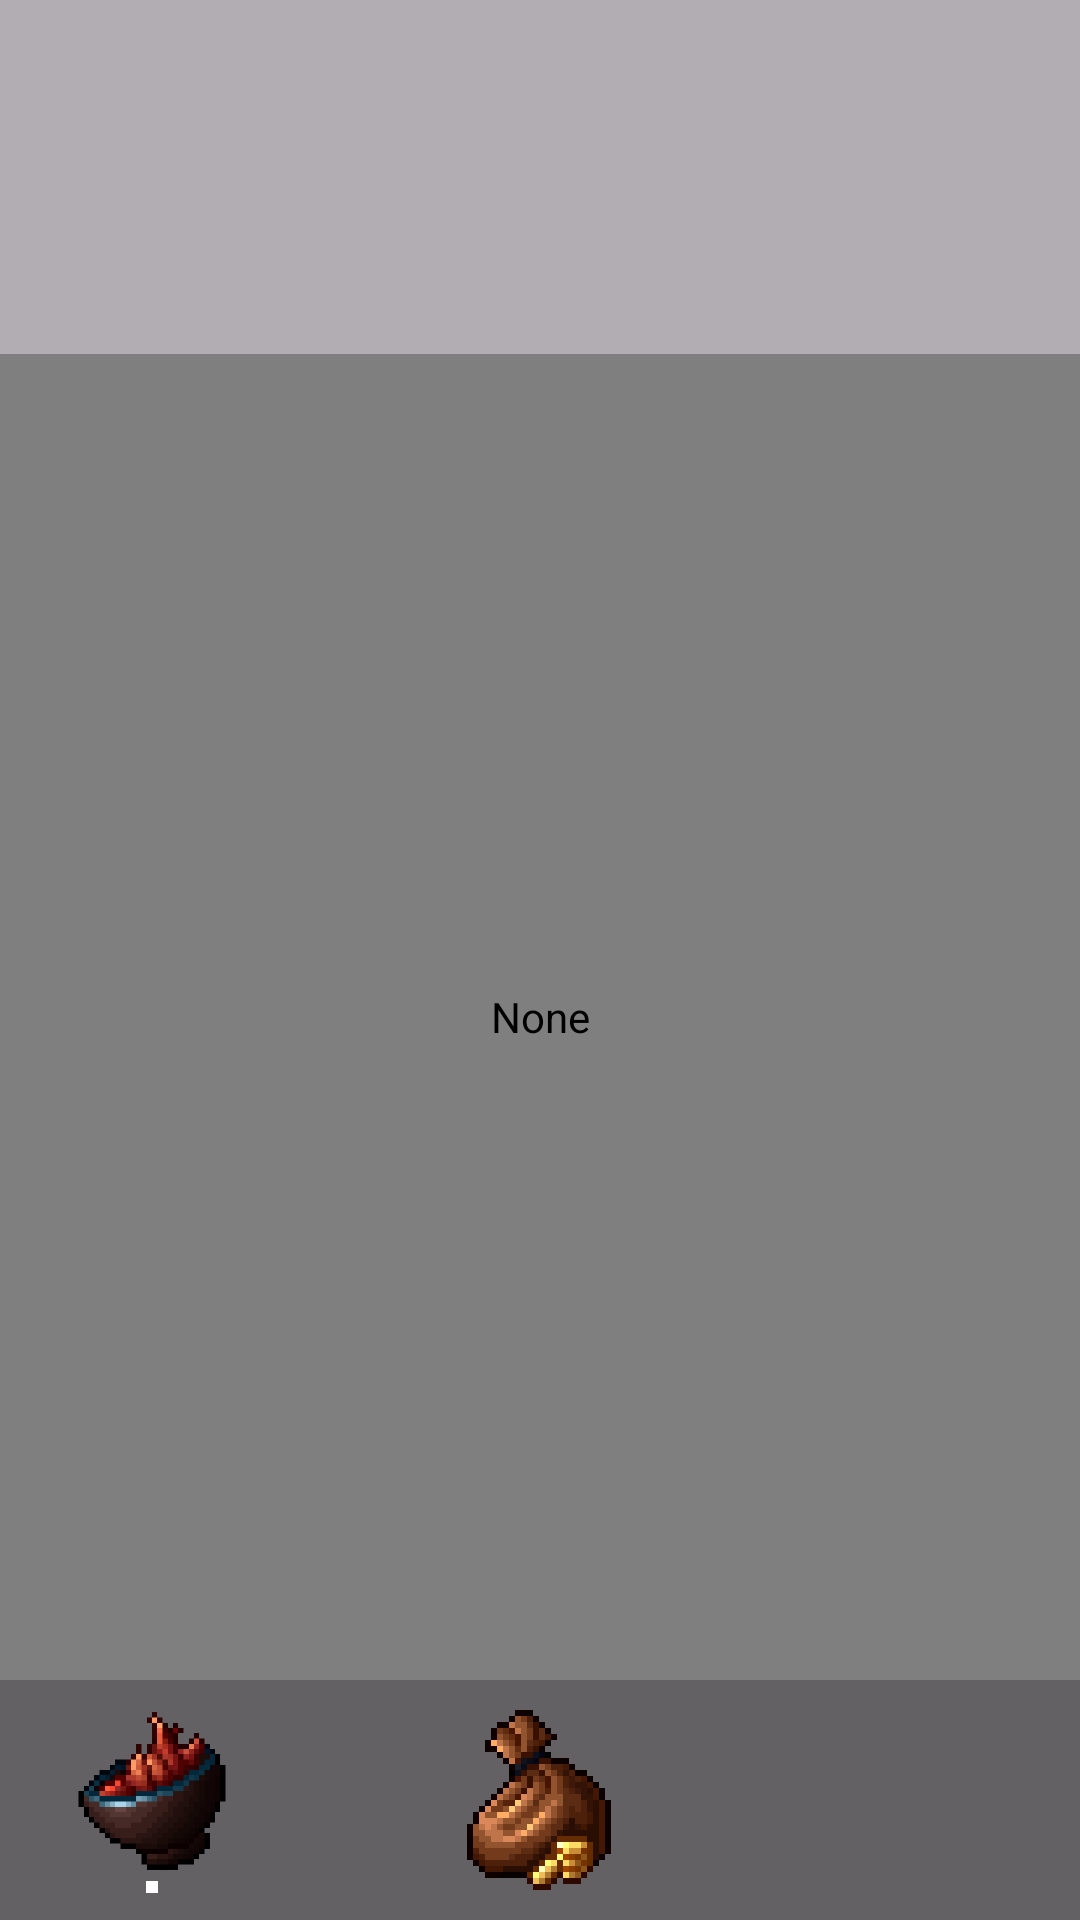

Screen size 1080×1920. Icon name, then its center in pixels as [x,y]:
market: [539,1800]
